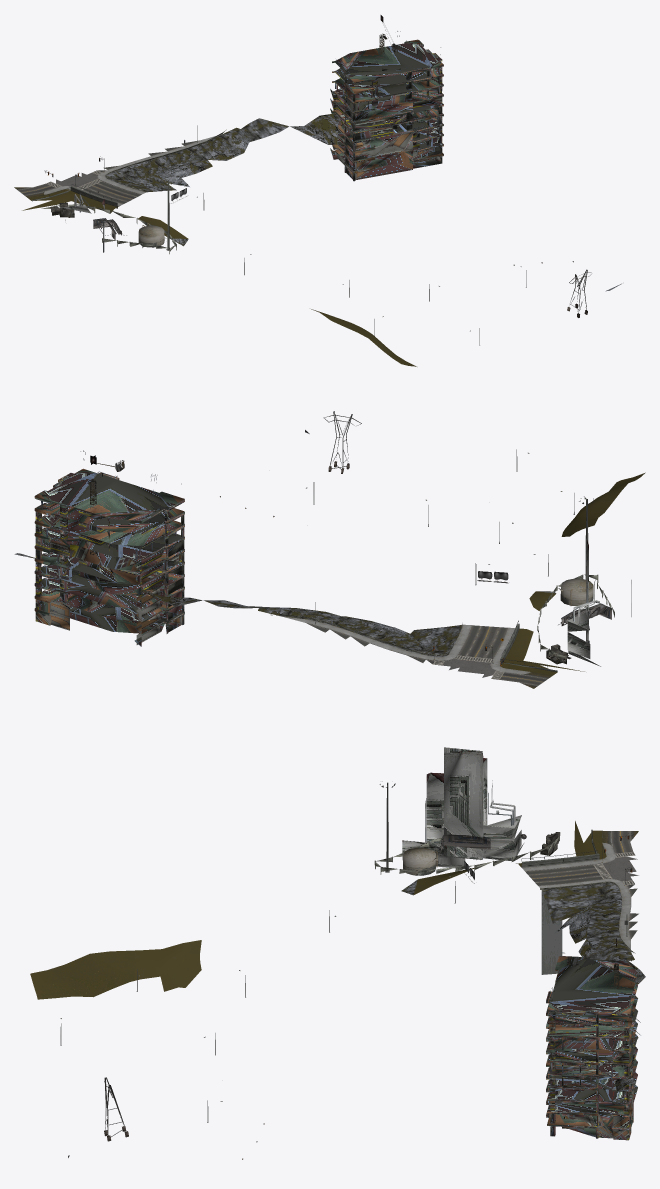
Rendered from world_camden_12_-4.gltf.
The picture shows the model from 3 angles, top to bottom: view 1: azimuth 30°, elevation 25°; view 2: azimuth 150°, elevation 25°; view 3: azimuth 270°, elevation 25°; orthographic projection. The views are drawn at different scales.
Size of the model in its own units: 274 by 96.93 by 271.
Materials: 43 (43 with a texture image).
